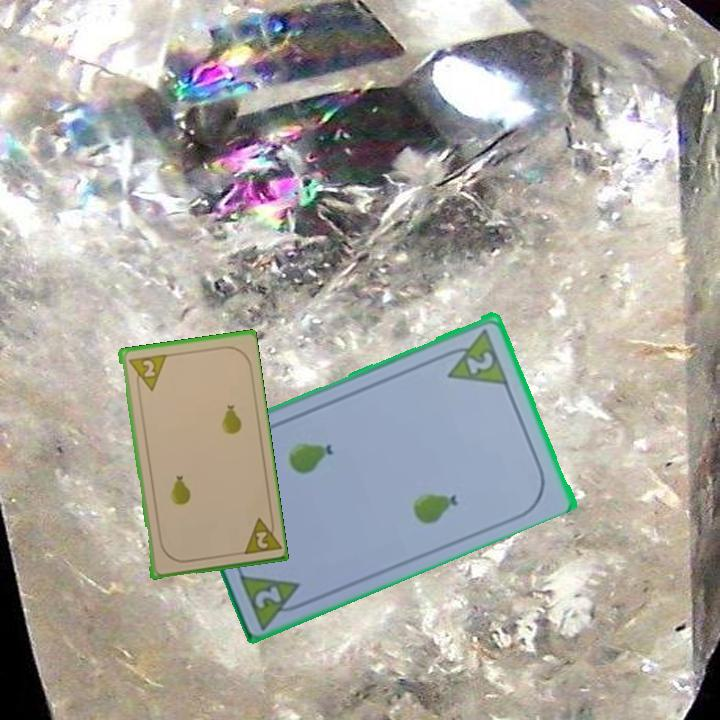2p: (437, 324, 511, 387), (237, 512, 282, 557), (124, 350, 168, 395), (251, 582, 285, 611)
